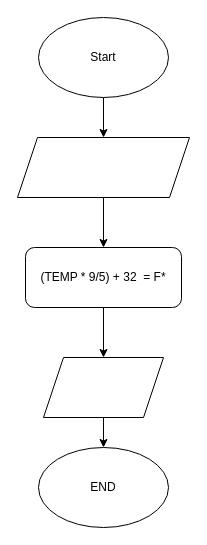
Image size: 207x545. Some labels were removed from this diagram. The shapes that lost their labels are listed below. From the top down, each one's centre as x and y in pixels, then its label:
pixel 103 167: INPUT TEMP IN C*
pixel 103 387: Print Temp in F
